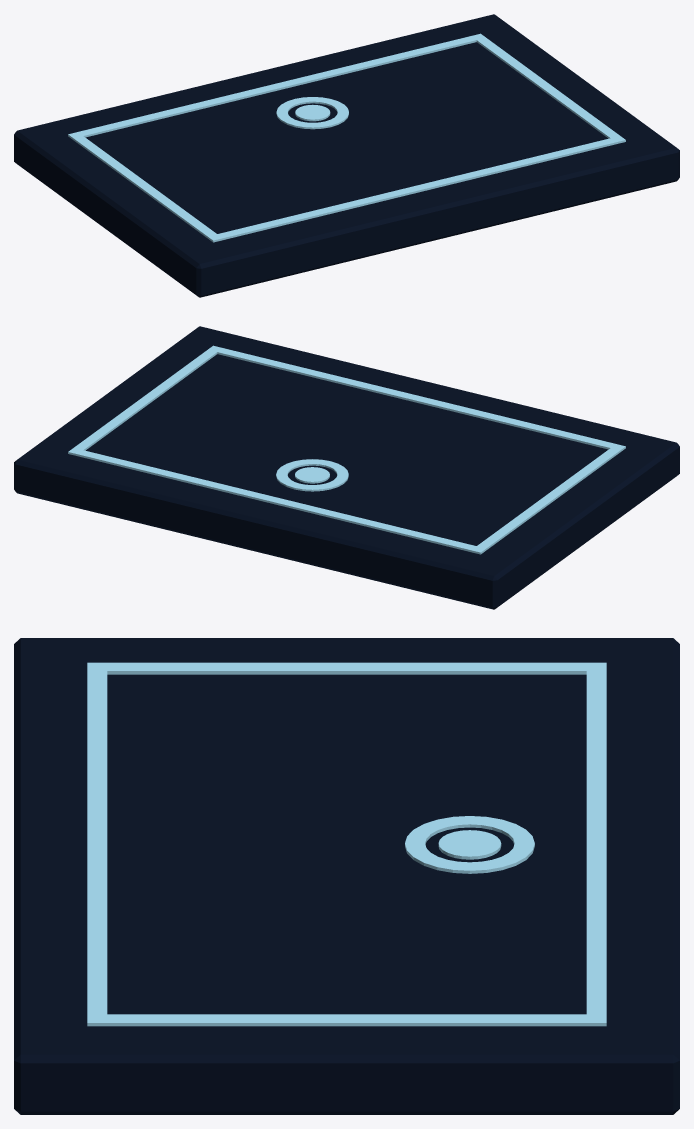
The model's file is W_O_Playground_Finish_S_L0.fbx.
The picture shows the model from 3 angles, top to bottom: view 1: azimuth 30°, elevation 25°; view 2: azimuth 150°, elevation 25°; view 3: azimuth 270°, elevation 25°; orthographic projection. The views are drawn at different scales.
Parts seen in each view (by area): view 1: W_O_Playground_Finish_S_L0; view 2: W_O_Playground_Finish_S_L0; view 3: W_O_Playground_Finish_S_L0.
Part boxes in pixels (bbox=[...]): W_O_Playground_Finish_S_L0: bbox=[14, 14, 679, 297]; W_O_Playground_Finish_S_L0: bbox=[14, 326, 679, 609]; W_O_Playground_Finish_S_L0: bbox=[14, 638, 679, 1114].
Size of the model in its own units: 3 by 0.2118 by 2.
